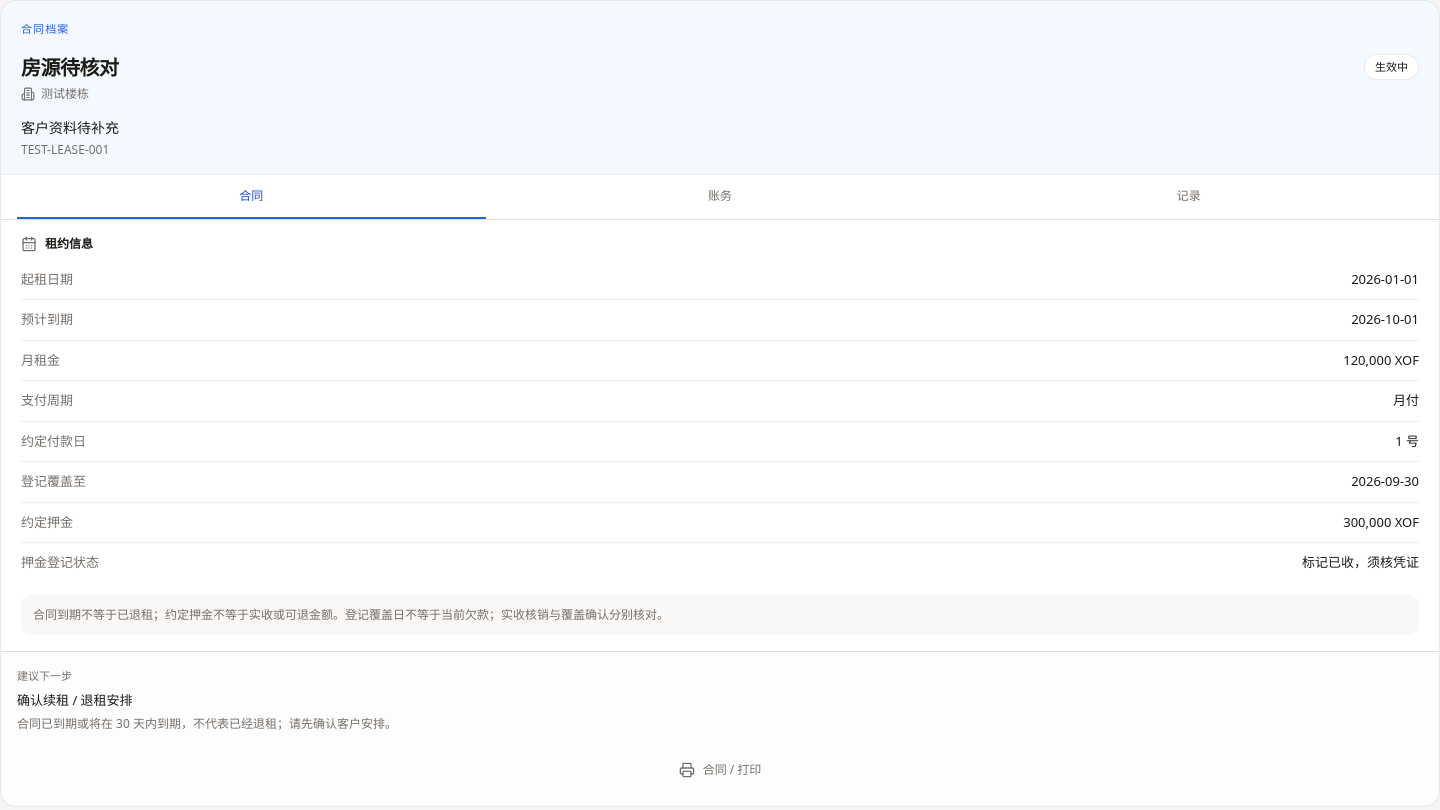
it: LeaseWorkbenchInspector single contract dossier › does not turn missing managed receivables or unverified deposits into zero balances
Click the tab "账务": (720, 196) [486,174,954,218]
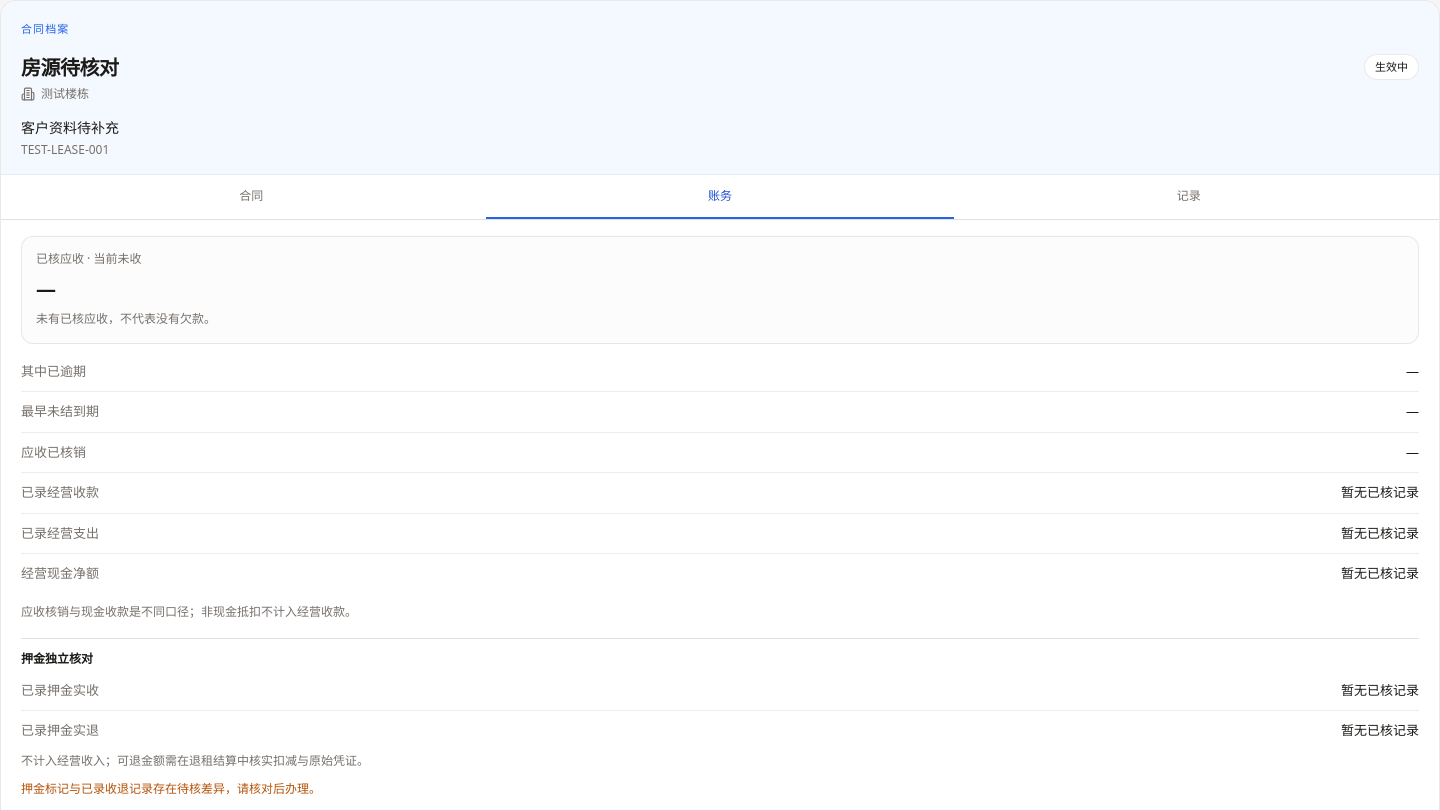
Expected: the text "未有已核应收，不代表没有欠款" is shown, [36,310,216,326]
Expected: the text "暂无已核记录" in the row of "已录经营收款" is shown, [1341,483,1419,501]
Expected: the text "押金标记与已录收退记录存在待核差异" is shown, [21,780,321,796]
